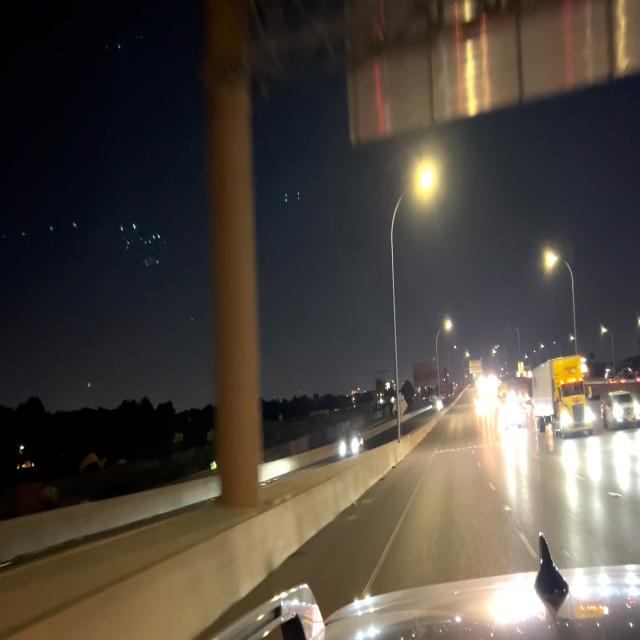back-of-sign: (348, 0, 638, 153)
